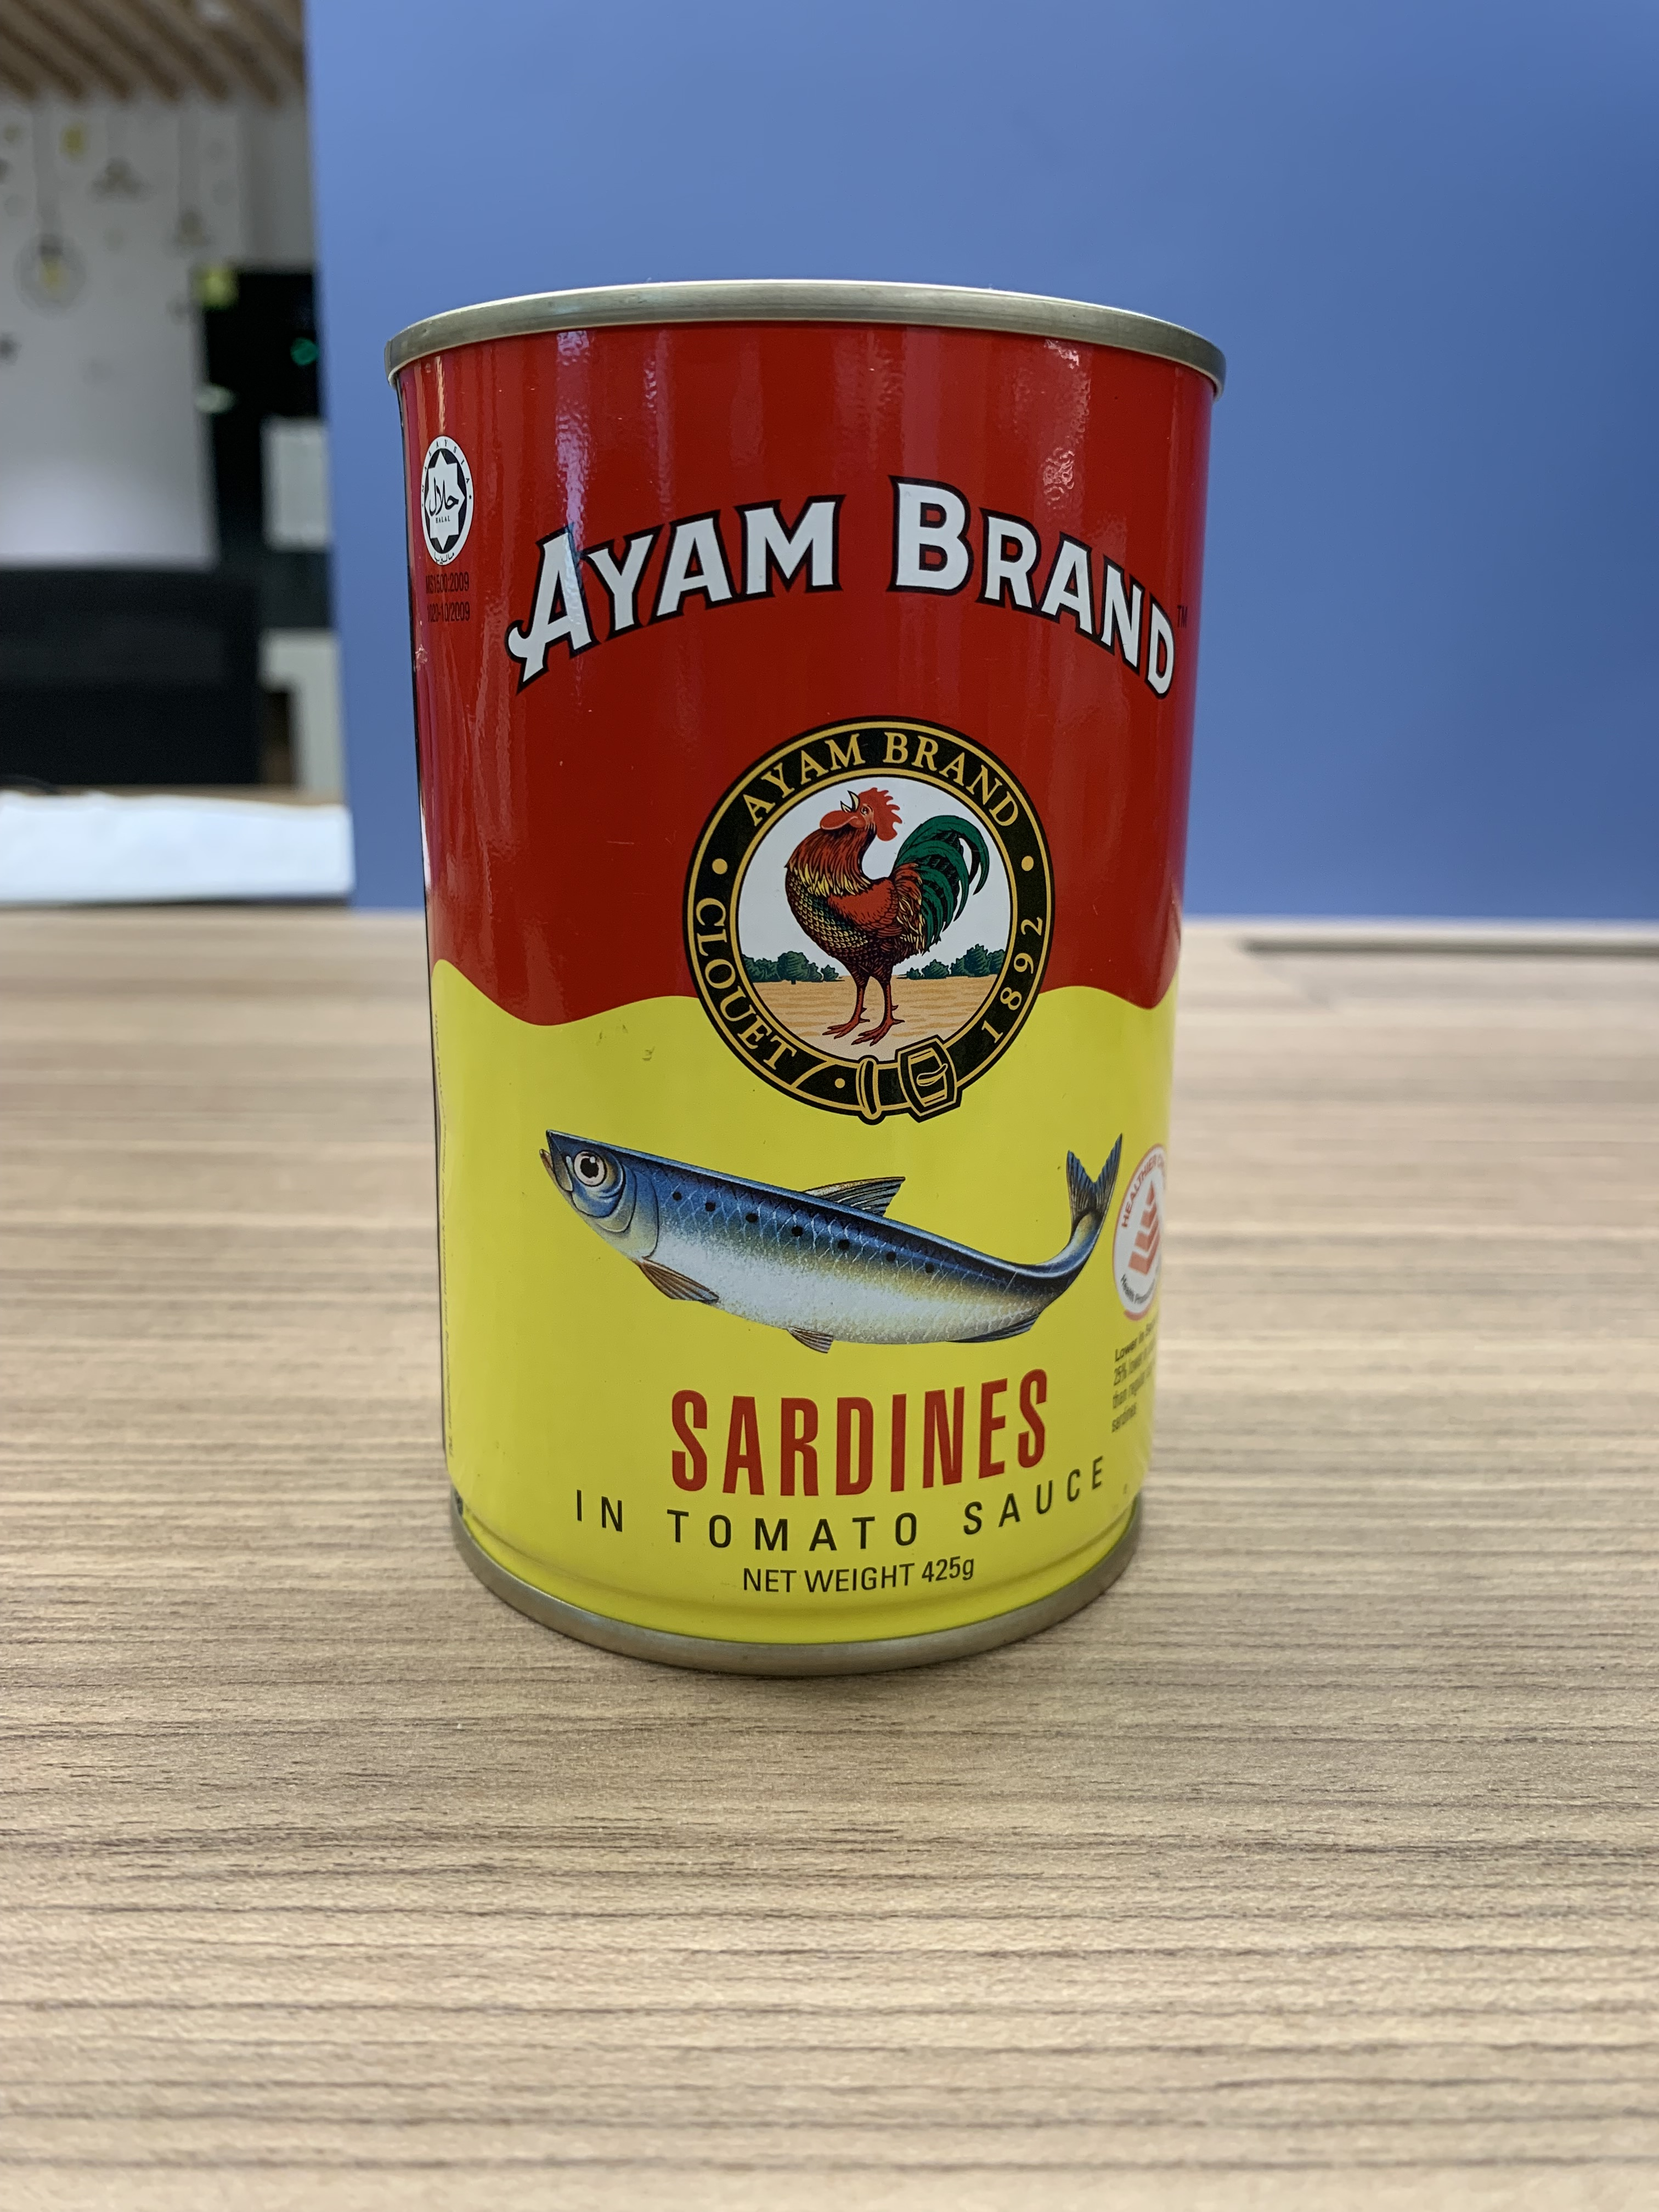sardines: (376, 260, 1243, 1683)
